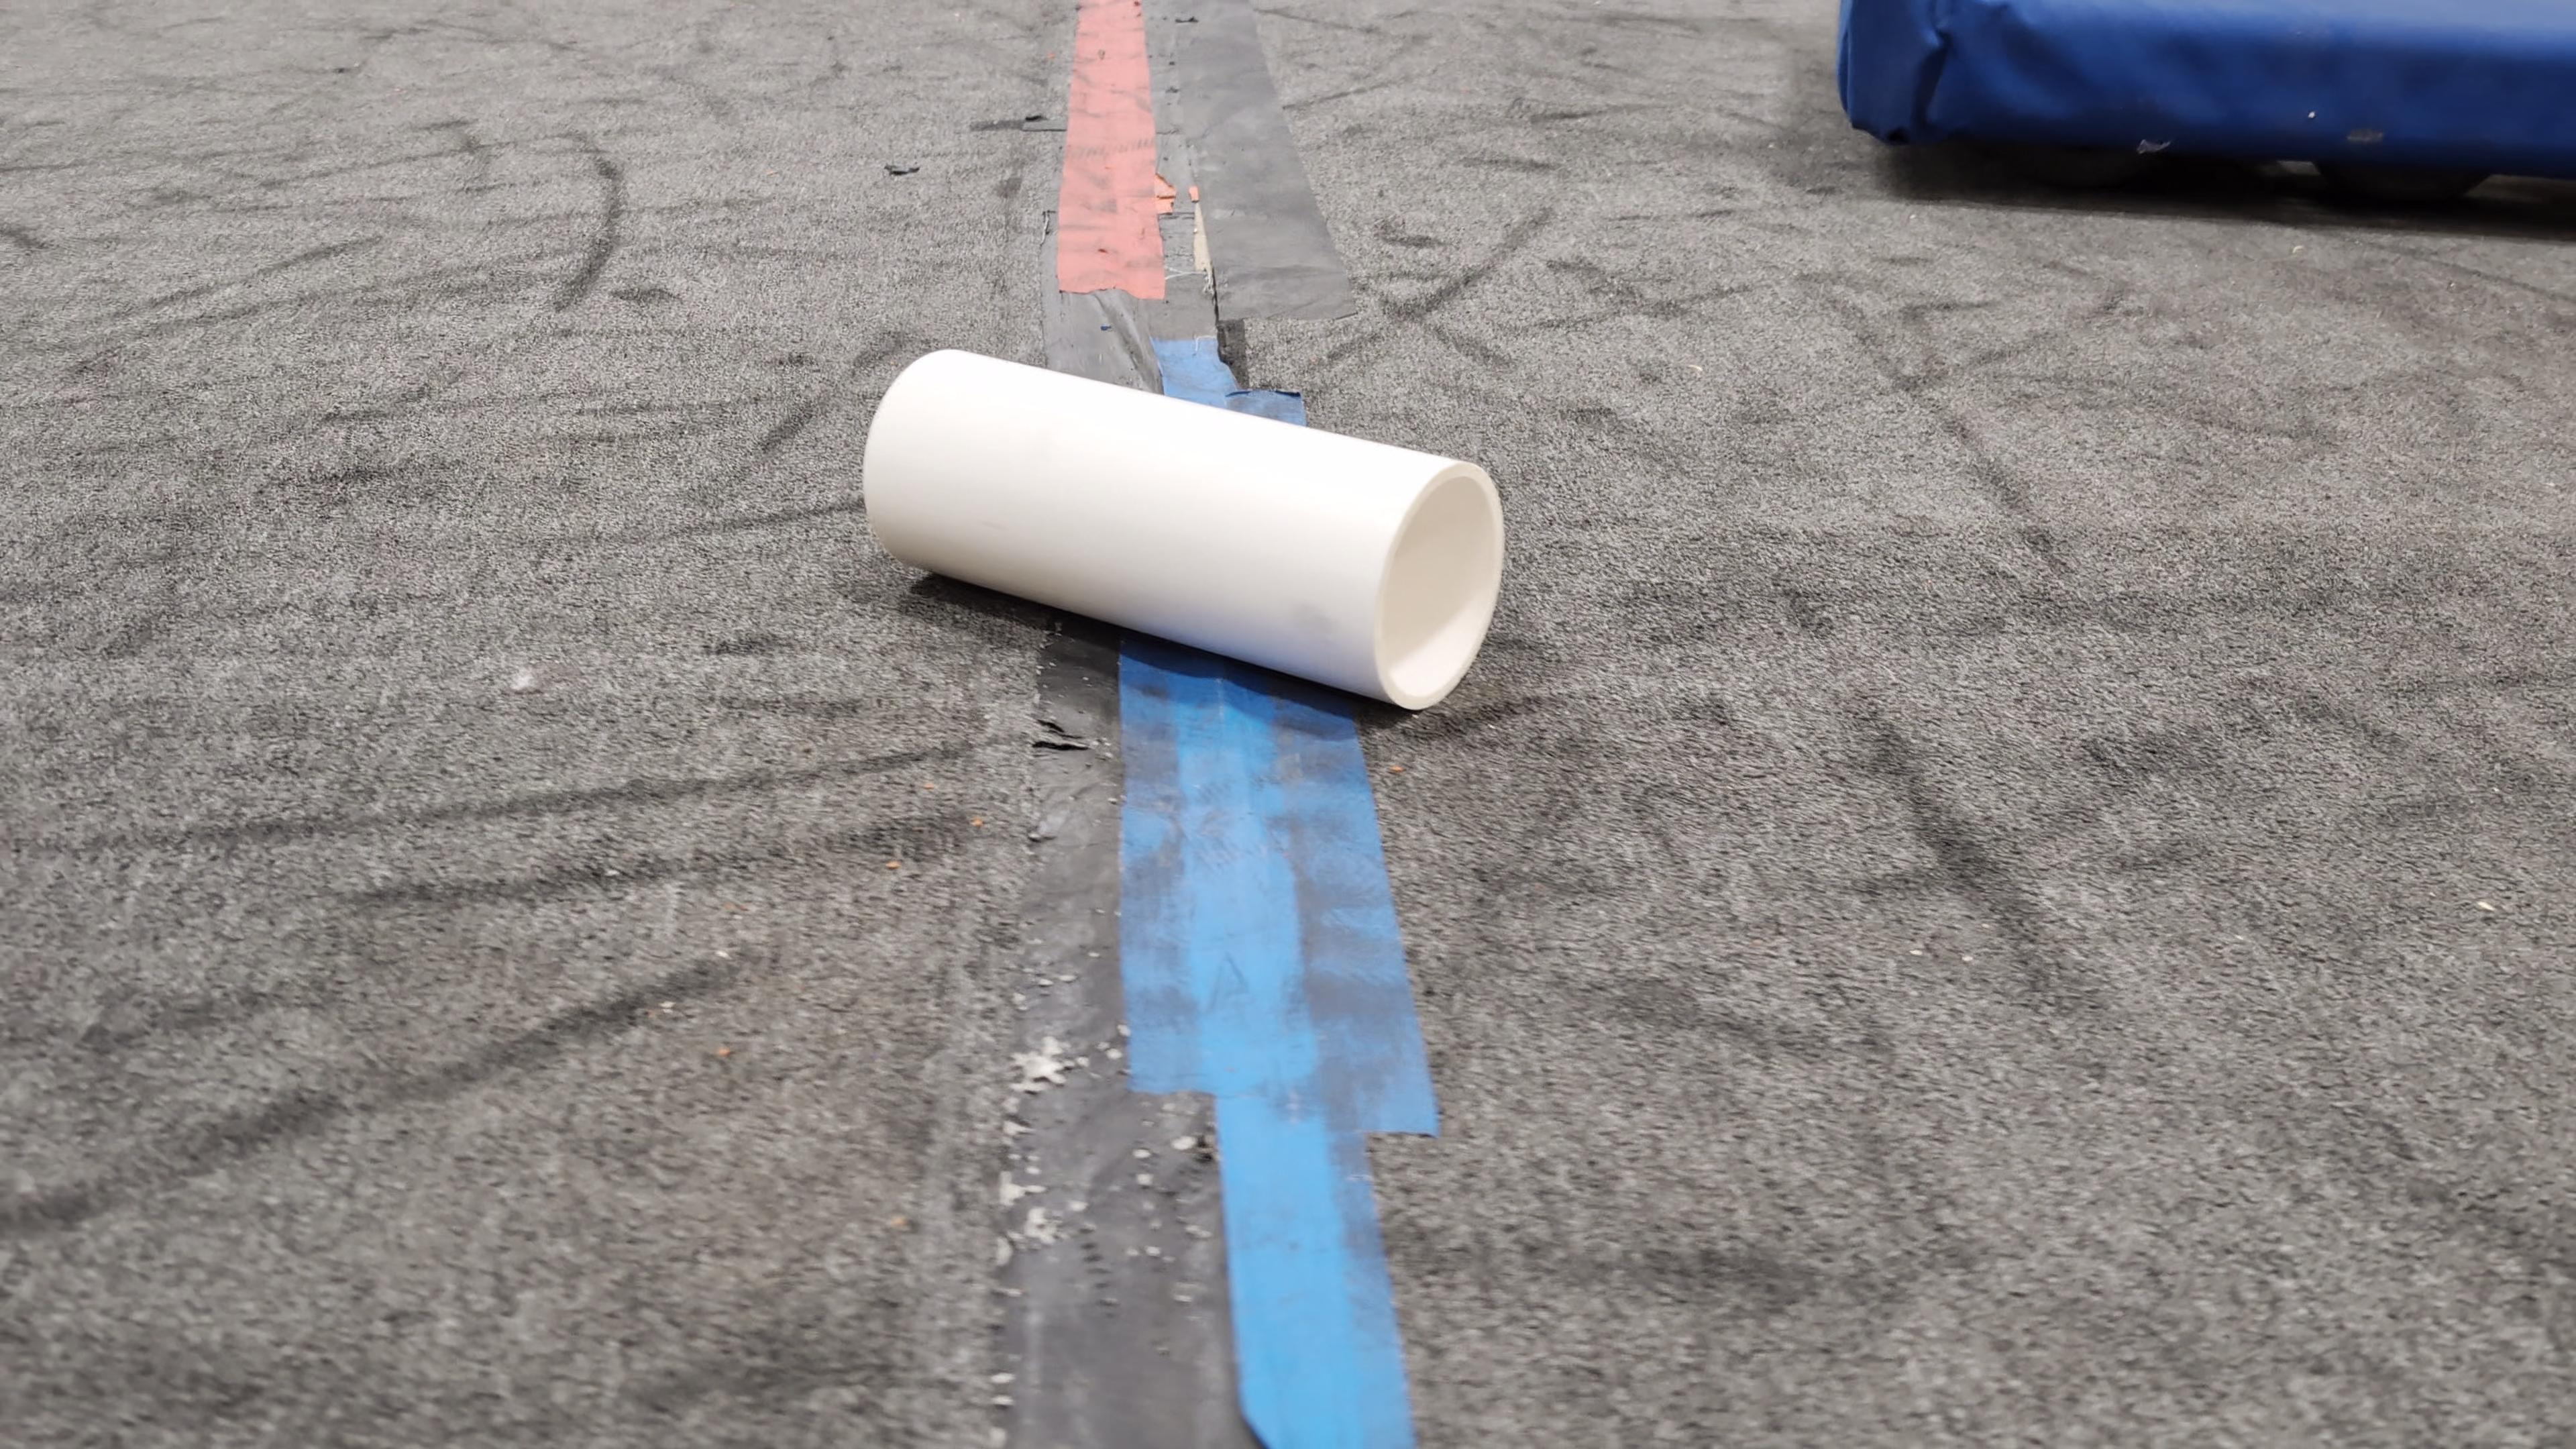coral: (862, 343, 1509, 713)
